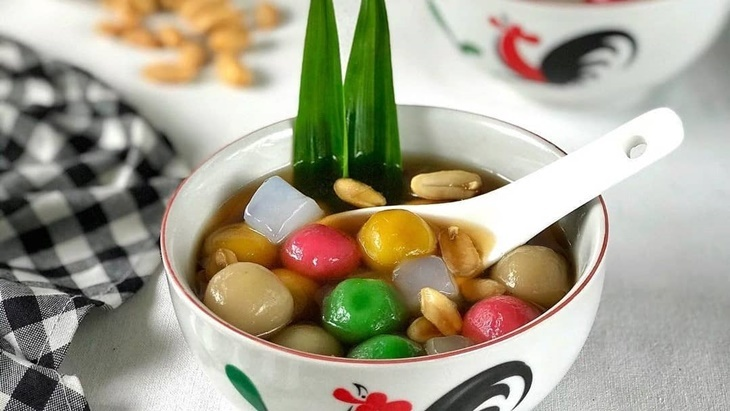ronde: (190, 154, 575, 357)
